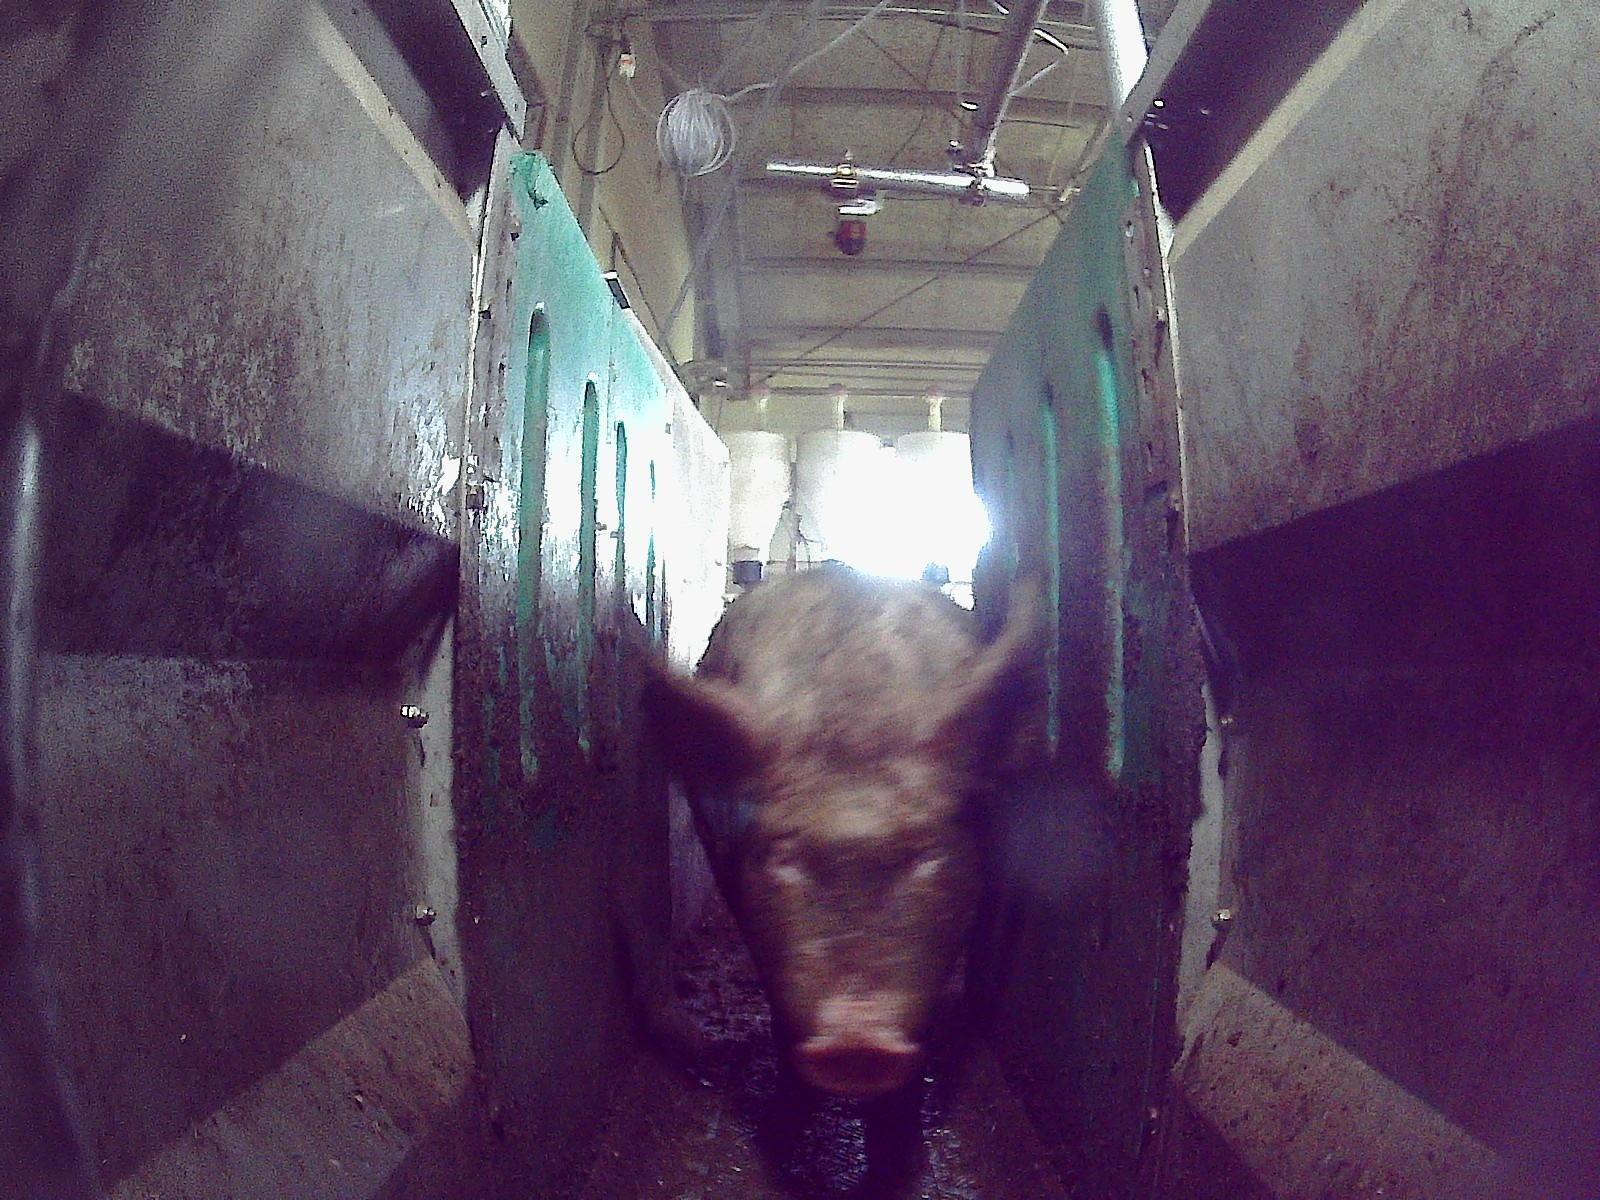Face: (732, 717, 981, 1098)
